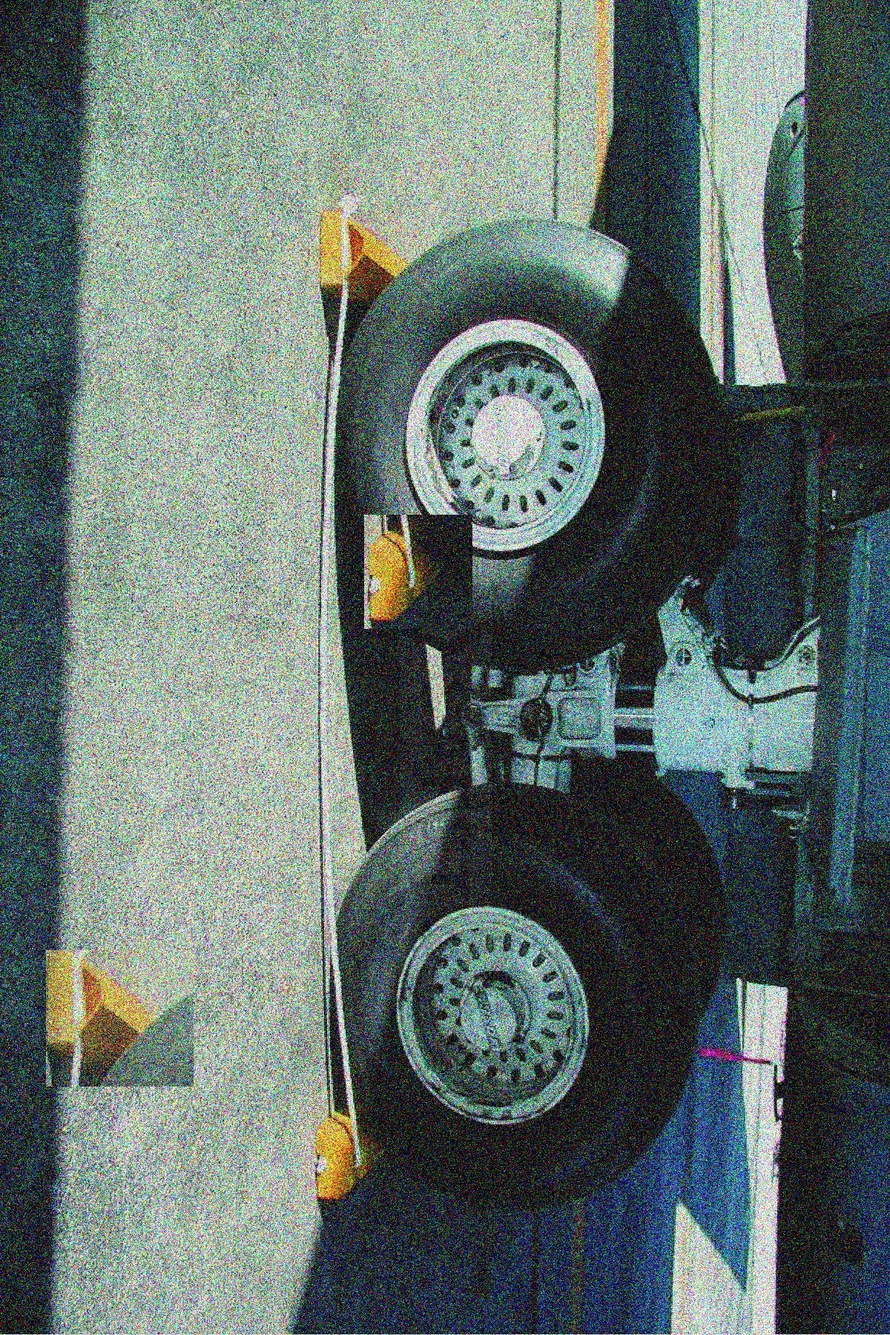chock: (46, 950, 194, 1087), (319, 211, 438, 320), (364, 515, 472, 629), (311, 1096, 417, 1208)
wheel: (343, 217, 733, 662), (342, 779, 705, 1205), (570, 756, 728, 1018), (690, 402, 744, 607)
